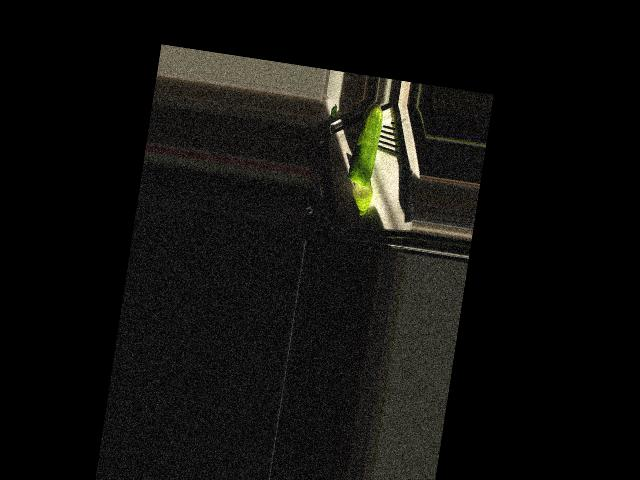cucumber: (347, 101, 385, 188)
